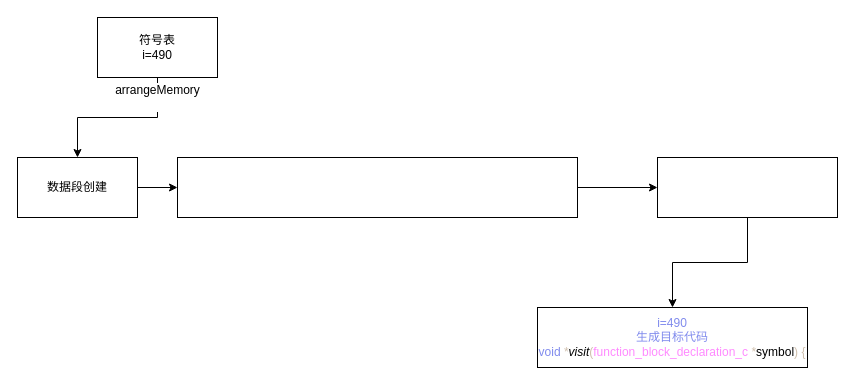
The diagram is 855 pixels wide and 385 high, and some of its shapes have lost their labels. The shapes that lost their labels are listed below. From the top down, each one's box as (x1, y1, x2, y2) in pixels, then its label:
(176, 156, 578, 218): 插入到pouVarMap . insert ( make_pair ( m_currentPou , m_current_PouVars ))
(656, 156, 838, 218): 初始化
